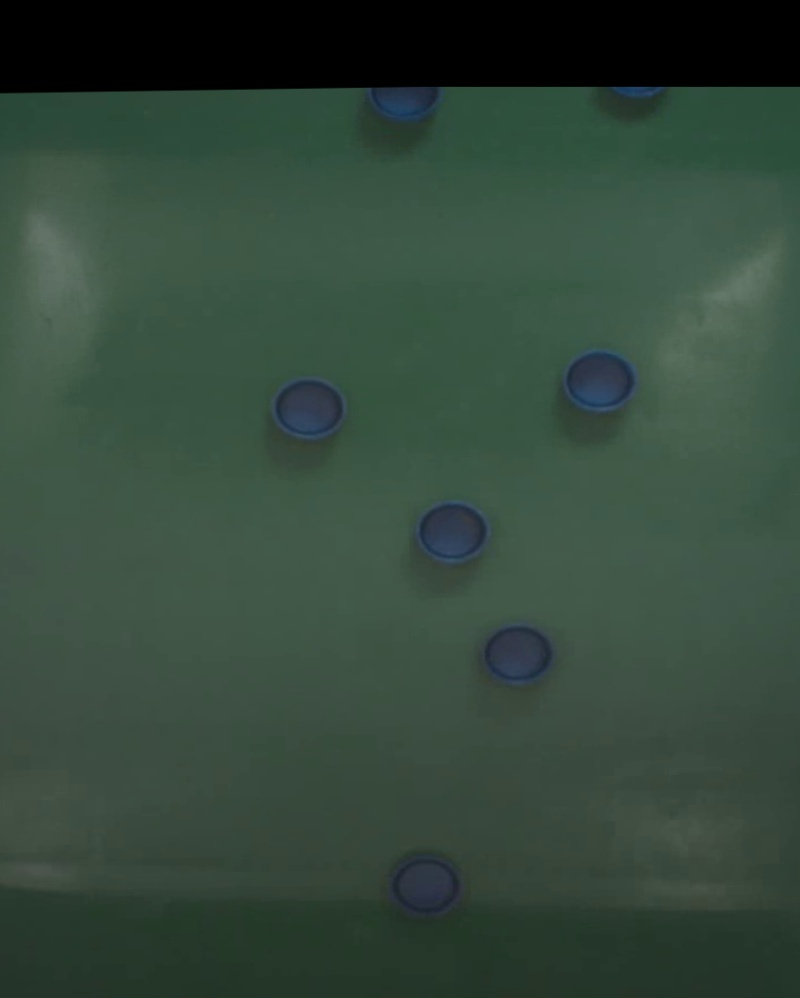Dark Blue: (270, 377, 346, 443), (415, 500, 490, 566), (484, 624, 555, 681), (392, 858, 463, 915), (567, 352, 638, 409)
